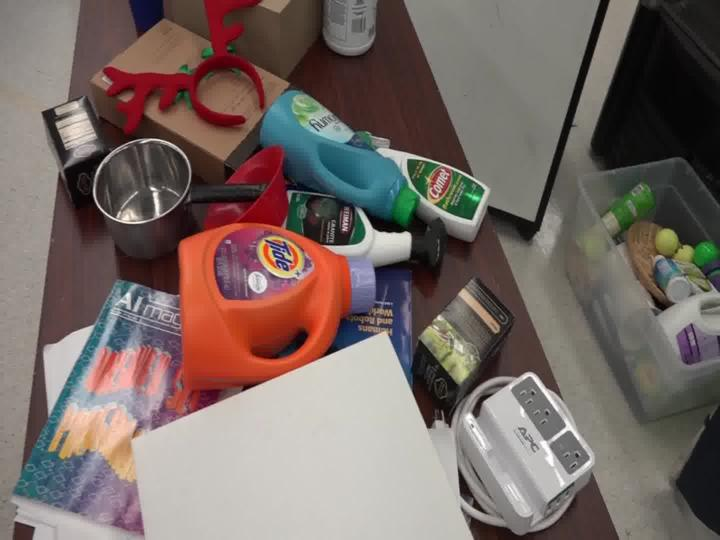downy: (232, 62, 426, 245)
